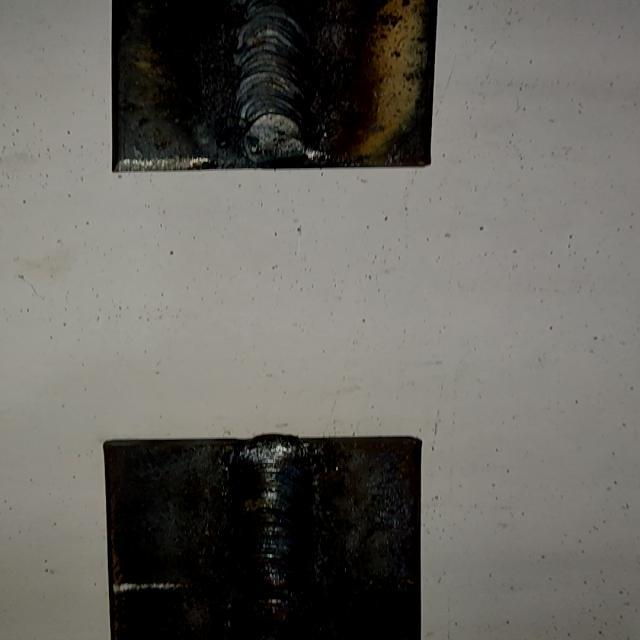Welding Line: (232, 441, 313, 640), (238, 0, 318, 157)
Workpiece: (94, 434, 427, 640), (106, 0, 442, 179)
